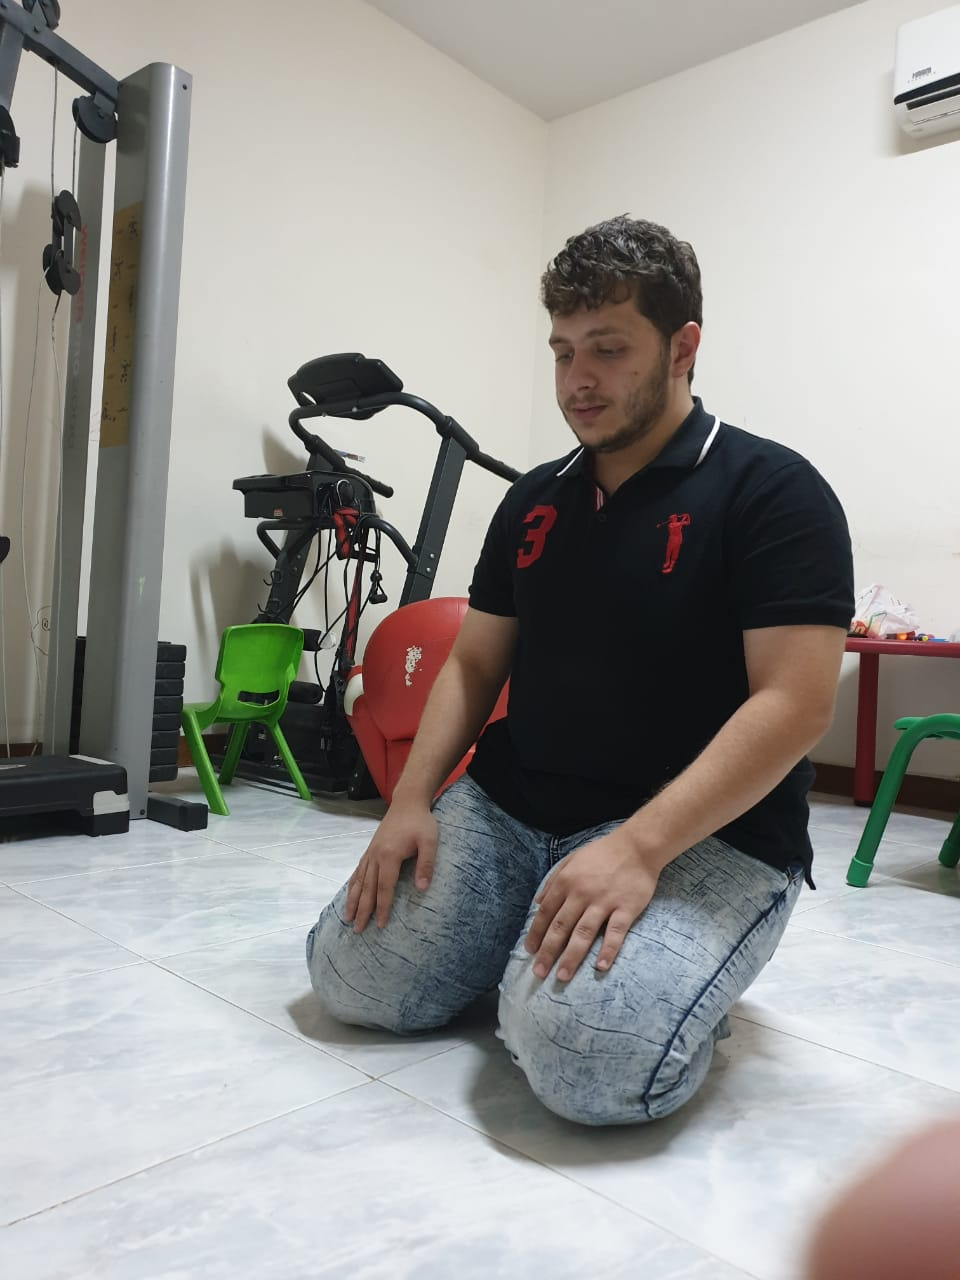sitting: (293, 189, 881, 1164)
